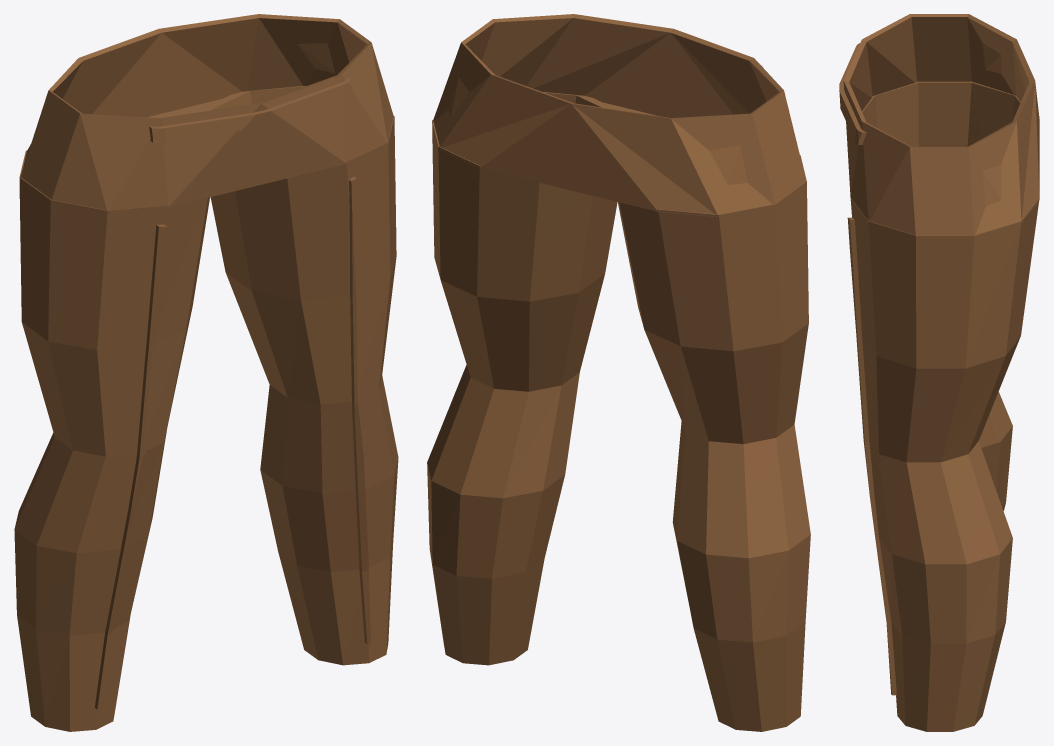
The model's file is leather_legs-female.glb.
3 renders of one model, left to right at view 1: azimuth 30°, elevation 25°; view 2: azimuth 150°, elevation 25°; view 3: azimuth 270°, elevation 25°, orthographic. The views are drawn at different scales.
Visible parts, largest first — view 1: leather trouser leg -1, leather trouser leg 1, leather trouser pelvis yoke, Trouser reinforced front seam 1, Trouser reinforced front seam -1, Trouser waist facing; view 2: leather trouser leg -1, leather trouser leg 1, leather trouser pelvis yoke; view 3: leather trouser leg 1, leather trouser pelvis yoke, leather trouser leg -1, Trouser reinforced front seam 1, Trouser waist facing.
Boxes of the visible parts, <box> form: leather trouser leg -1: <box>14,150,209,731</box>; leather trouser leg 1: <box>203,86,398,665</box>; leather trouser pelvis yoke: <box>20,14,393,210</box>; Trouser reinforced front seam 1: <box>349,176,373,644</box>; Trouser reinforced front seam -1: <box>95,224,166,709</box>; Trouser waist facing: <box>149,78,353,142</box>; leather trouser leg -1: <box>618,155,810,731</box>; leather trouser leg 1: <box>427,92,617,665</box>; leather trouser pelvis yoke: <box>433,14,805,216</box>; leather trouser leg 1: <box>850,198,1039,731</box>; leather trouser pelvis yoke: <box>843,14,1039,235</box>; leather trouser leg -1: <box>862,81,1020,510</box>; Trouser reinforced front seam 1: <box>847,217,896,695</box>; Trouser waist facing: <box>839,43,866,144</box>.
Bounding box in the file's own units: 2.13 × 3.45 × 1.09.
